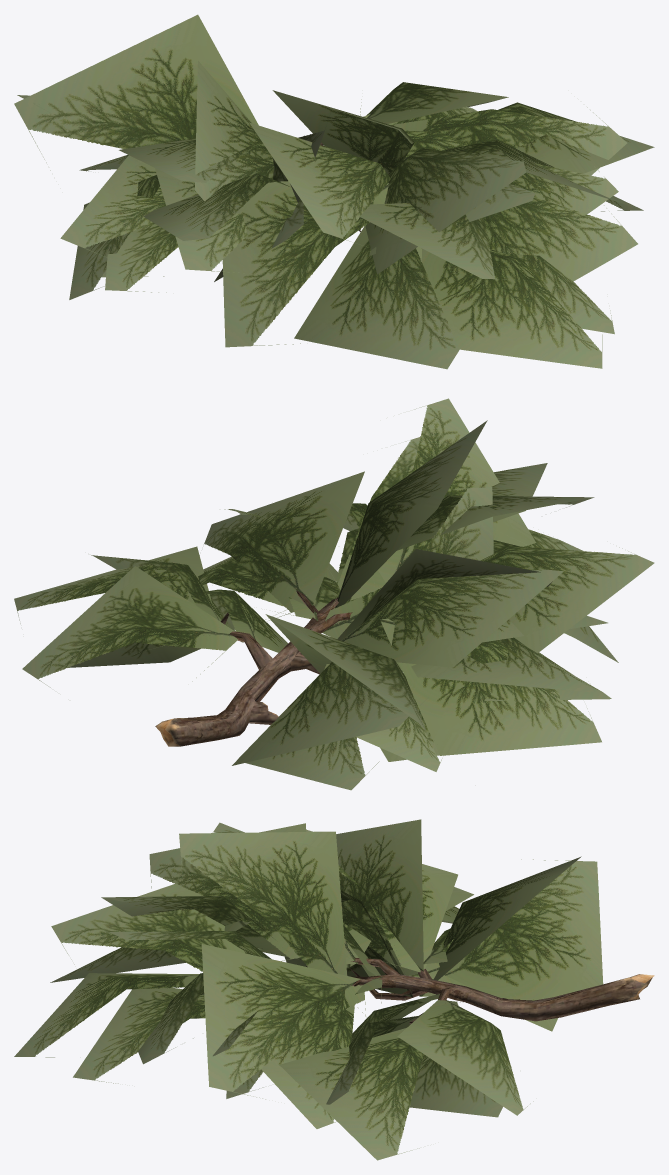
Rendered from BranchBroken.fbx.
The picture shows the model from 3 angles, top to bottom: view 1: azimuth 30°, elevation 25°; view 2: azimuth 150°, elevation 25°; view 3: azimuth 270°, elevation 25°; orthographic projection. The views are drawn at different scales.
Visible parts, largest first — view 1: SM_cmn_mount_BrokenBranch_01a; view 2: SM_cmn_mount_BrokenBranch_01a; view 3: SM_cmn_mount_BrokenBranch_01a.
Boxes of the visible parts, x1=… form: SM_cmn_mount_BrokenBranch_01a: x1=14, y1=14, x2=654, y2=369; SM_cmn_mount_BrokenBranch_01a: x1=14, y1=398, x2=654, y2=790; SM_cmn_mount_BrokenBranch_01a: x1=14, y1=819, x2=654, y2=1160.
Bounding box in the file's own units: 334 × 122 × 354.
